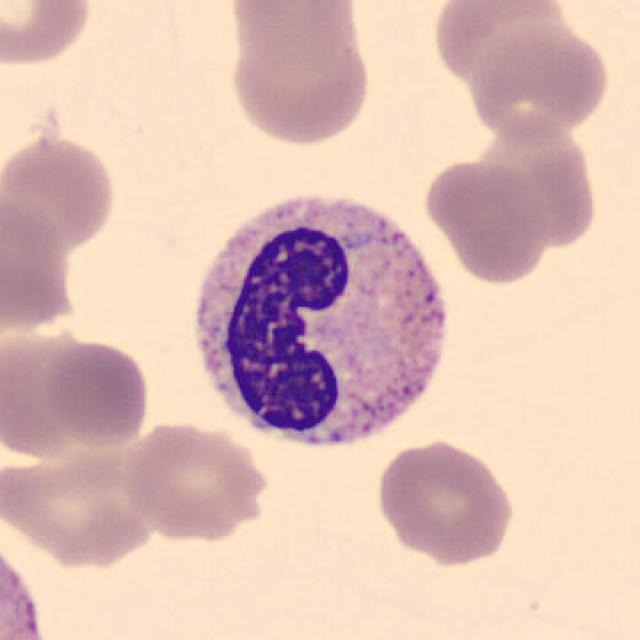Neutrophil: (180, 182, 460, 466), (0, 520, 66, 640)
RBC: (224, 10, 375, 150), (2, 437, 160, 568), (372, 436, 518, 568), (119, 418, 272, 543), (466, 19, 612, 143), (478, 108, 598, 252), (422, 153, 550, 284), (0, 129, 121, 254), (426, 0, 586, 88), (0, 316, 96, 459), (41, 335, 153, 455), (222, 0, 366, 74), (0, 196, 78, 330), (0, 0, 96, 69)
